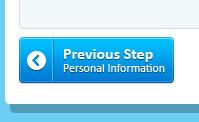button: (18, 35, 174, 84)
